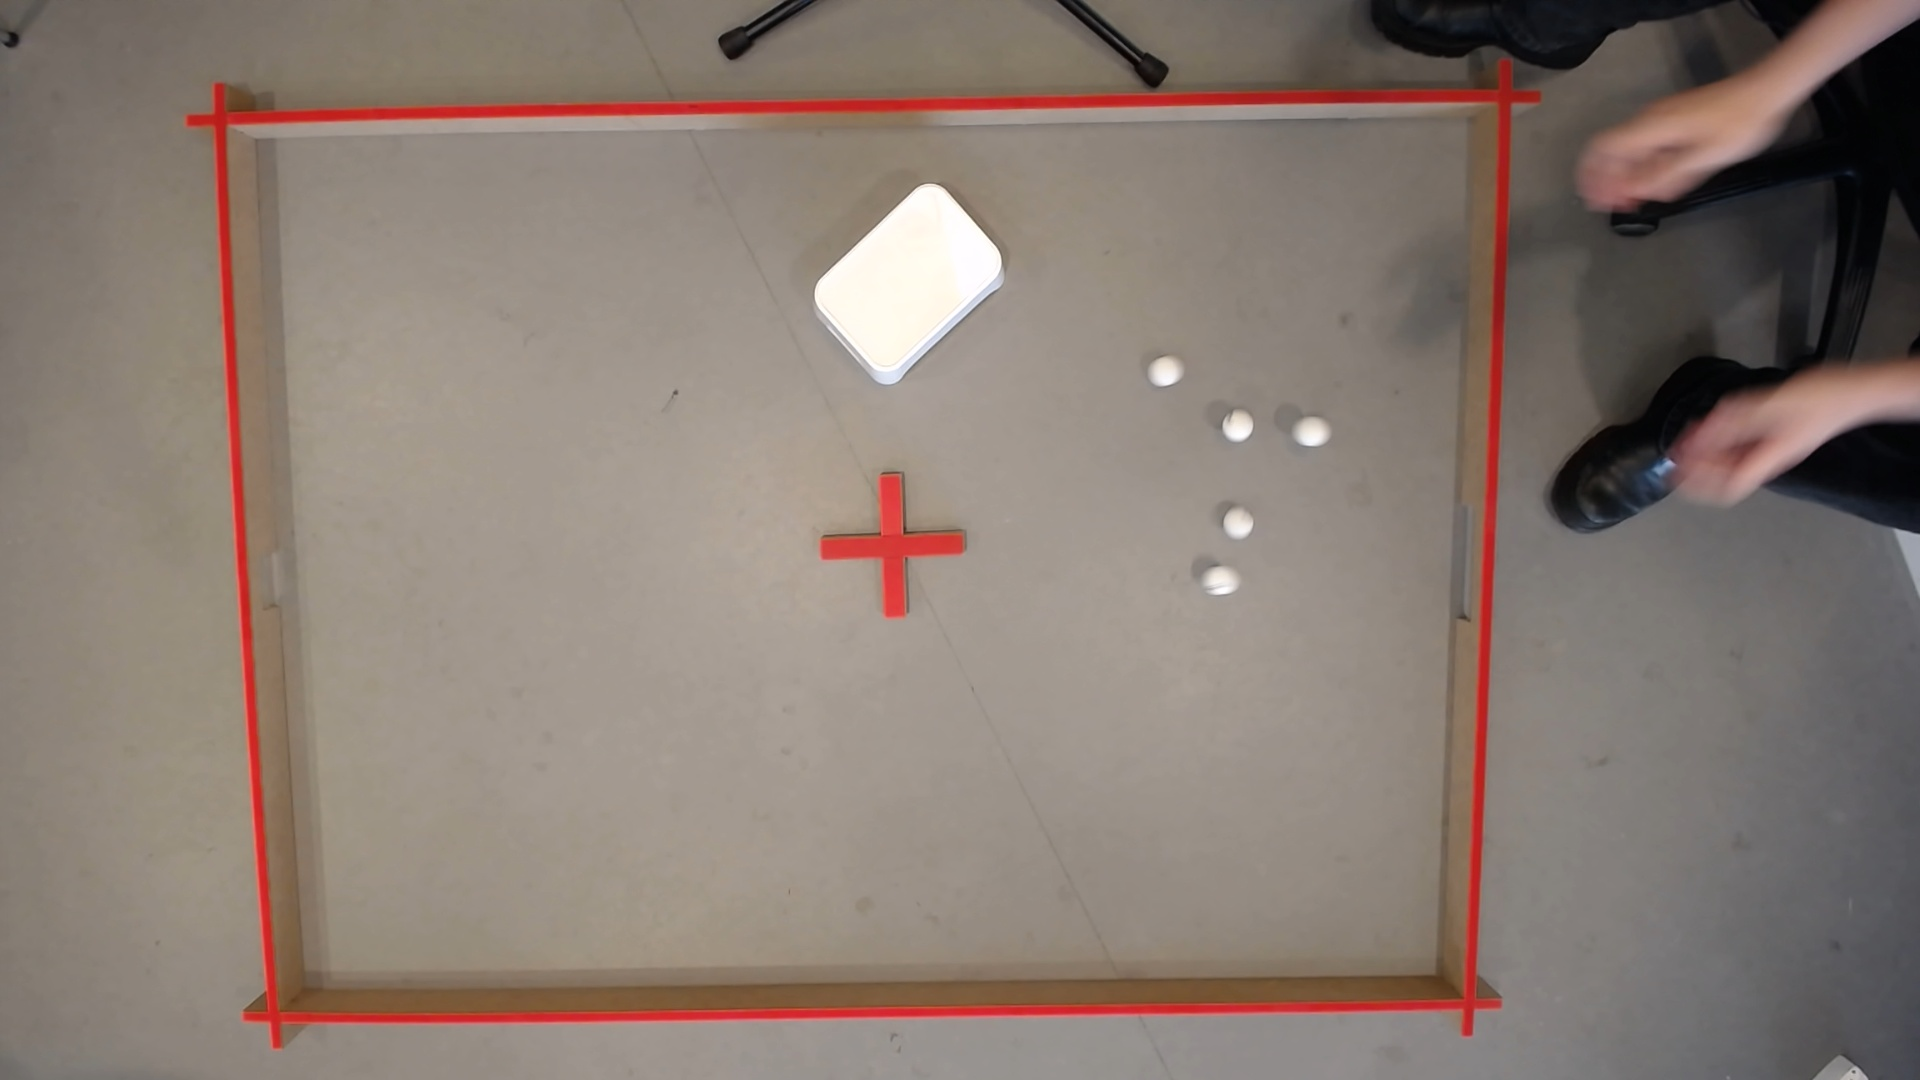balls: (798, 173, 1018, 390), (1218, 407, 1257, 446), (1201, 563, 1238, 600), (1294, 417, 1329, 451), (1218, 506, 1254, 541), (1153, 359, 1179, 385)
car: (1771, 73, 1809, 105)
